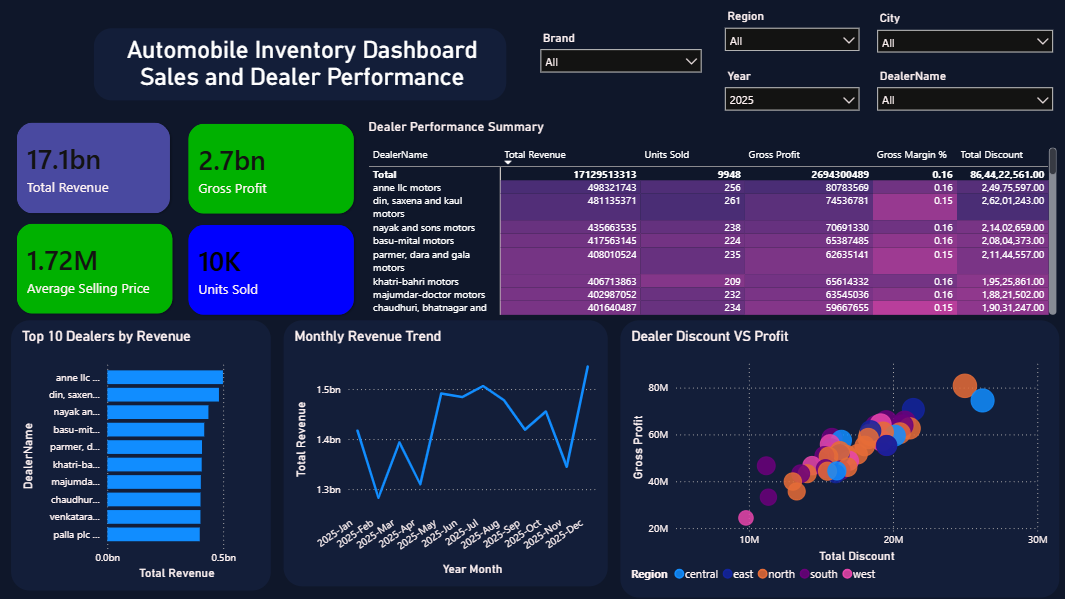

What the dashboard file says about the page in this screenshot:
{"tool":"powerbi","page":{"name":"Sales and Dealer Performance","canvas":[1280,720],"ordinal":1},"visuals":[{"type":"textbox","title":"Automobile Inventory Dashboard Sales and Dealer Performance","box":[111.2,31.2,500,91.2],"z":0},{"type":"slicer","fields":{"Values":["DateTable.Year"]},"box":[861.2,77.5,181.4,70],"z":1000},{"type":"slicer","fields":{"Values":["dim_Dealers.Region"]},"box":[861.2,5,181.4,72.9],"z":2000},{"type":"slicer","fields":{"Values":["dim_Dealers.DealerName"]},"box":[1043.8,77.5,231.2,70],"z":3000},{"type":"slicer","fields":{"Values":["dim_Dealers.City"]},"box":[1043.8,5,231.2,72.5],"z":4000},{"type":"cardVisual","fields":{"Data":["fact_Sales.Total Revenue"]},"box":[0,125.1,227.5,152.5],"z":5000},{"type":"cardVisual","fields":{"Data":["fact_Sales.Gross Profit"]},"box":[205.5,127.4,242.5,151.2],"z":6000},{"type":"cardVisual","fields":{"Data":["fact_Sales.Average Selling Price"]},"box":[0,247.6,230,151.2],"z":7000},{"type":"cardVisual","fields":{"Data":["fact_Sales.Units Sold"]},"box":[205.5,248.7,242.5,151.2],"z":8000},{"type":"lineChart","title":"Monthly Revenue Trend","fields":{"Category":["DateTable.Year Month"],"Y":["fact_Sales.Total Revenue"]},"box":[340,382.5,392.5,322.5],"z":11000},{"type":"clusteredBarChart","title":"Top 10 Dealers by Revenue","fields":{"Category":["dim_Dealers.DealerName"],"Y":["fact_Sales.Total Revenue"]},"box":[12.5,382.5,315,327.5],"z":12000},{"type":"scatterChart","title":"Dealer Discount VS Profit","fields":{"Category":["dim_Dealers.DealerName"],"Series":["dim_Dealers.Region"],"Size":["fact_Sales.Total Revenue"],"X":["fact_Sales.Total Discount"],"Y":["fact_Sales.Gross Profit"]},"box":[744.3,382.9,530,335.7],"z":13000},{"type":"pivotTable","title":"Dealer Performance Summary","fields":{"Rows":["dim_Dealers.DealerName"],"Values":["fact_Sales.Total Revenue","fact_Sales.Units Sold","fact_Sales.Gross Profit","fact_Sales.Gross Margin %","fact_Sales.Total Discount"]},"box":[438.8,133.8,836.2,248.8],"z":14000},{"type":"slicer","fields":{"Values":["dim_Vehicles.Brand"]},"box":[640,31.2,213.8,70],"z":14001}]}

Visuals, with their boxes in screenshot pixels (x1, y1, x2, y2), scaled from the page's 1280x720 canvas onto the 1065x599 screenshot:
"Automobile Inventory Dashboard Sales and Dealer Performance" textbox: [93, 26, 509, 102]
slicer - DateTable.Year: [717, 64, 867, 123]
slicer - dim_Dealers.Region: [717, 4, 867, 65]
slicer - dim_Dealers.DealerName: [868, 64, 1061, 123]
slicer - dim_Dealers.City: [868, 4, 1061, 64]
cardVisual - fact_Sales.Total Revenue: [0, 104, 189, 231]
cardVisual - fact_Sales.Gross Profit: [171, 106, 373, 232]
cardVisual - fact_Sales.Average Selling Price: [0, 206, 191, 332]
cardVisual - fact_Sales.Units Sold: [171, 207, 373, 333]
"Monthly Revenue Trend" lineChart: [283, 318, 609, 587]
"Top 10 Dealers by Revenue" clusteredBarChart: [10, 318, 272, 591]
"Dealer Discount VS Profit" scatterChart: [619, 319, 1060, 598]
"Dealer Performance Summary" pivotTable: [365, 111, 1061, 318]
slicer - dim_Vehicles.Brand: [532, 26, 710, 84]
